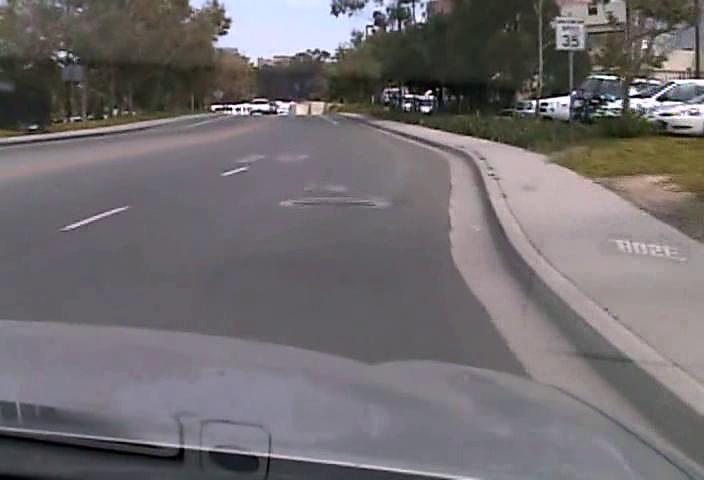speedLimit35: (555, 15, 585, 51)
